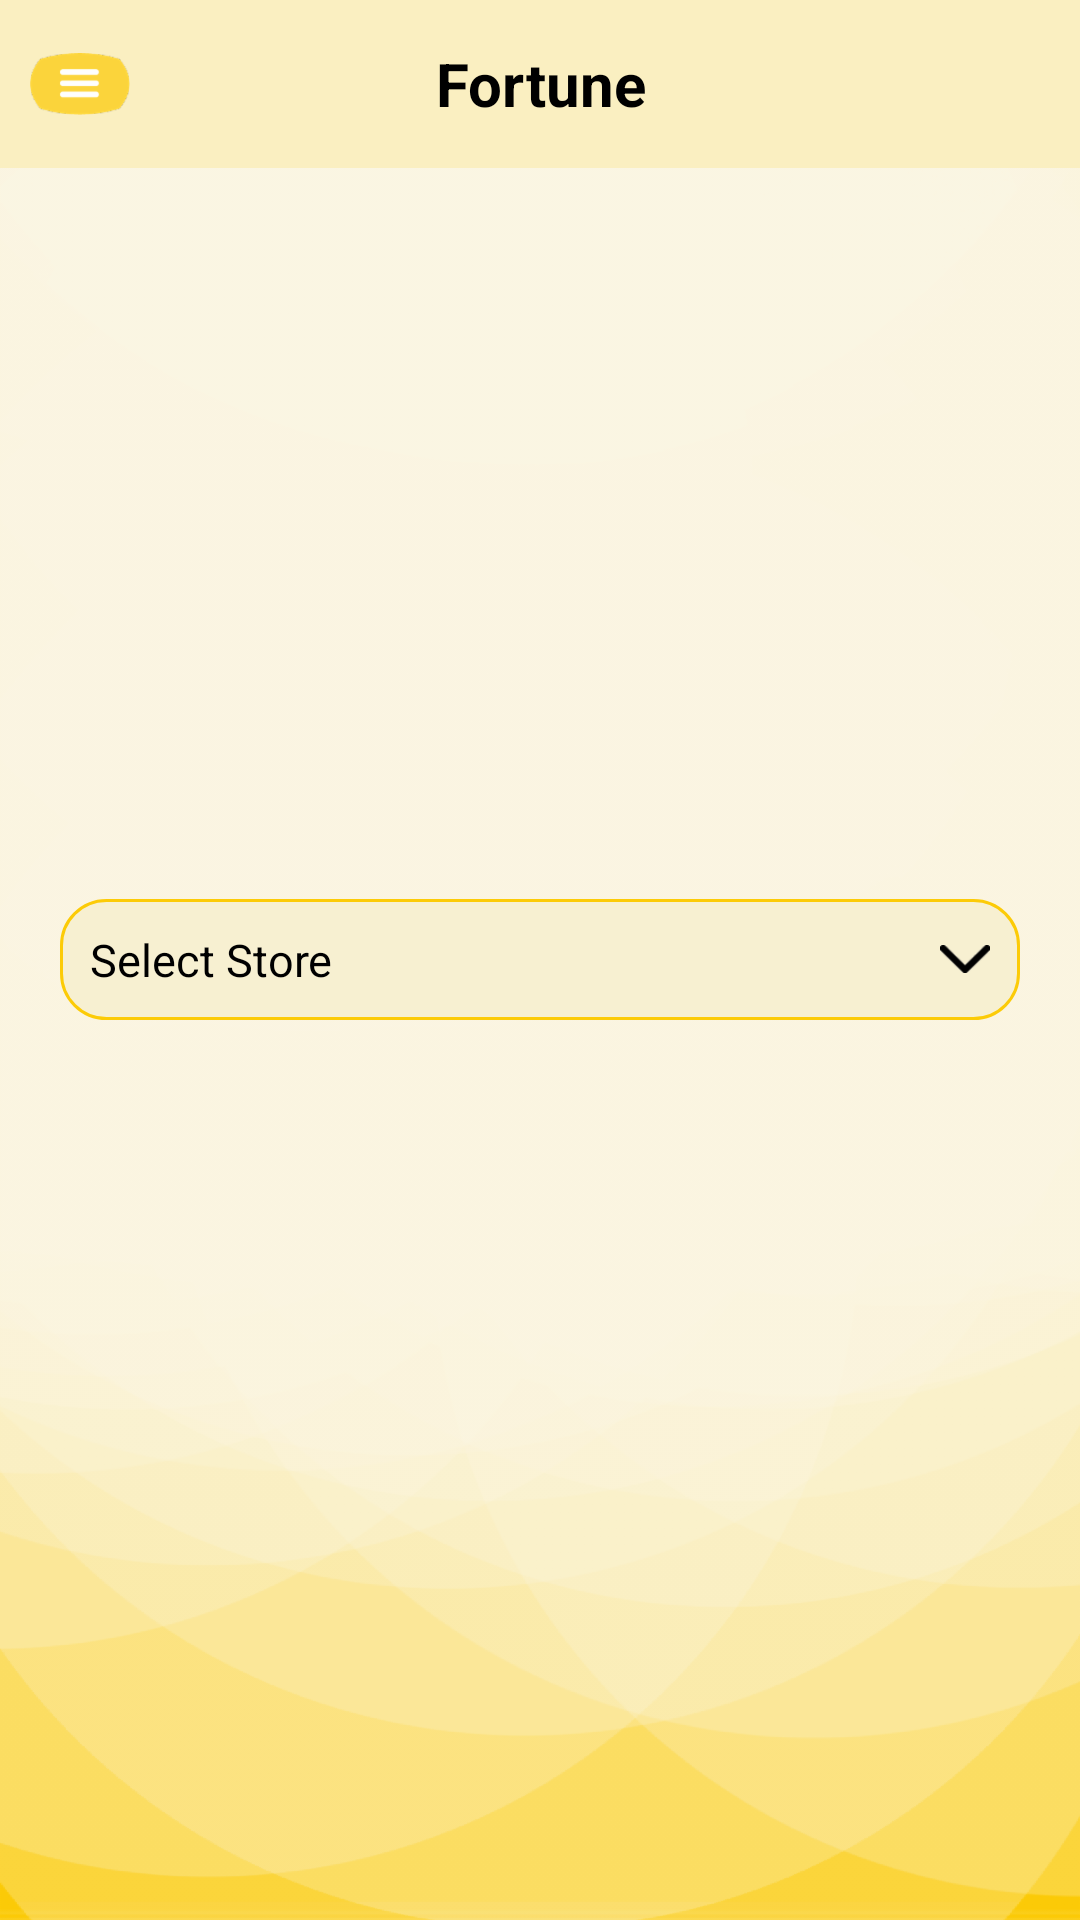

Locate icon controls on the screen. Image size 1080px×1920px, boxes as box(x1, y1, x2, y2).
dropdown: box(940, 945, 990, 973)
menu: box(30, 53, 130, 115)
